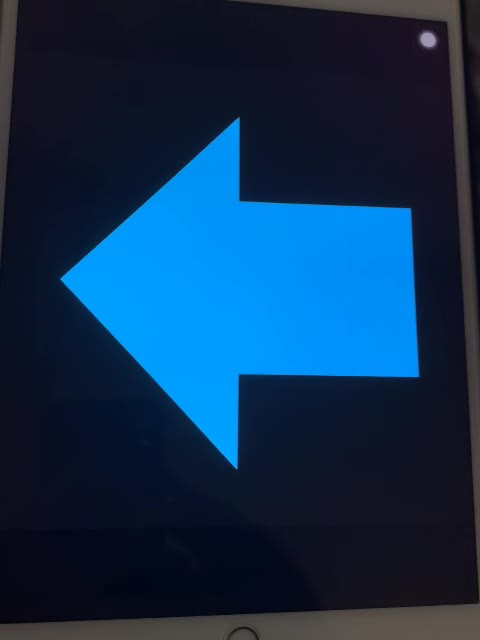left: (54, 102, 425, 475)
